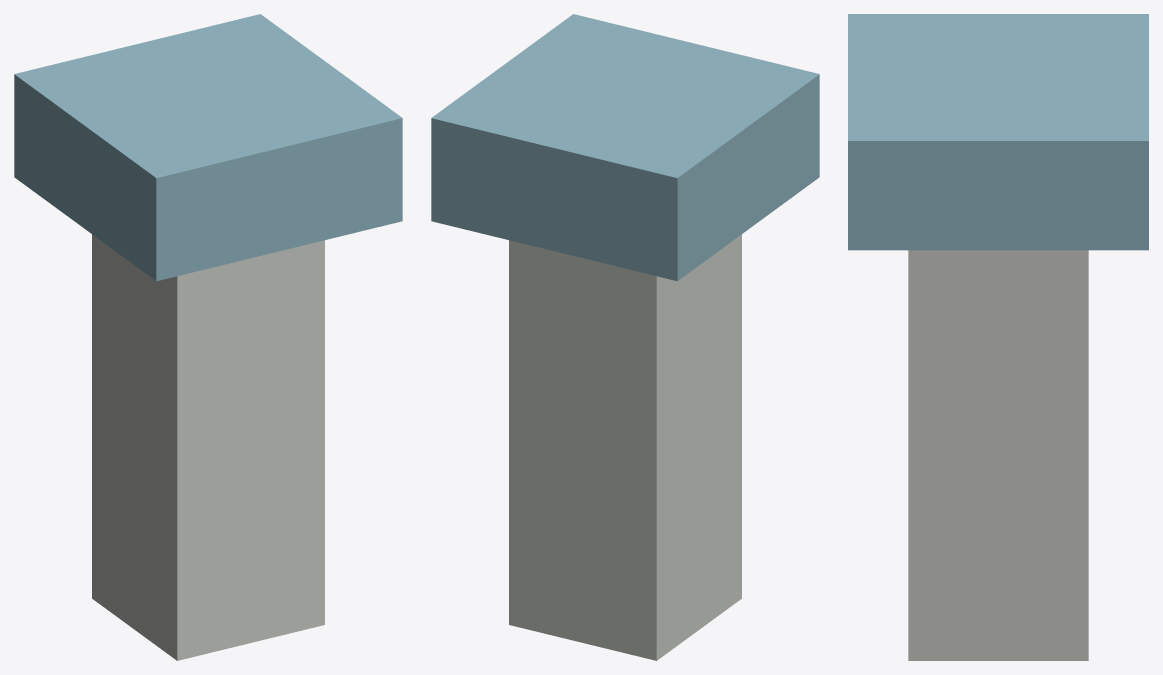
3 views of the same model, side by side, from view 1: azimuth 30°, elevation 25°; view 2: azimuth 150°, elevation 25°; view 3: azimuth 270°, elevation 25° (orthographic). The views are drawn at different scales.
Size of the model in its own units: 5 by 10 by 5.
